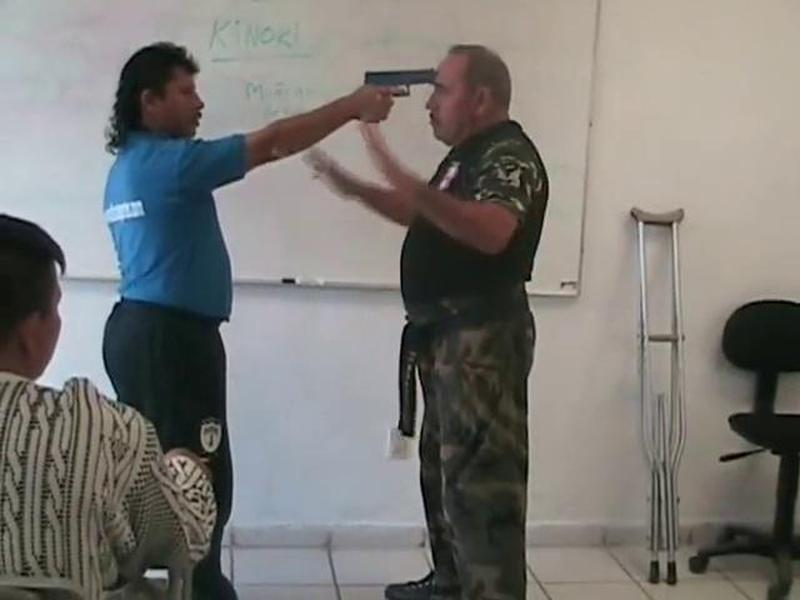Pistola: (362, 50, 437, 128)
